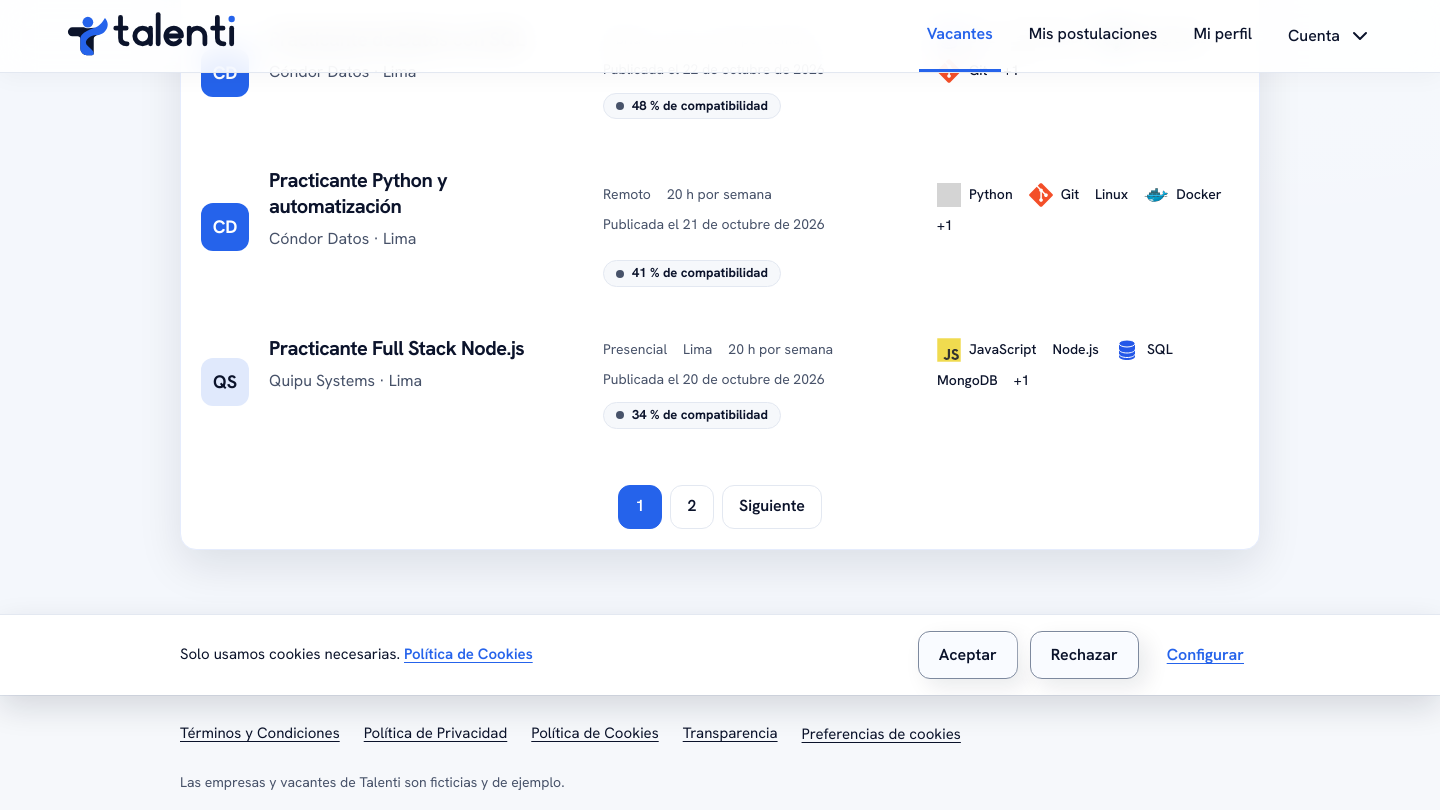
Cards of /oportunidades (007-23) › asks again only when the page of results changes
(page scrolled)
What coordinates should you click on to do the following:
click the link named "Página 2"
I would click on:
 (692, 507)
Its box is [670, 485, 714, 529].
(page scrolled)
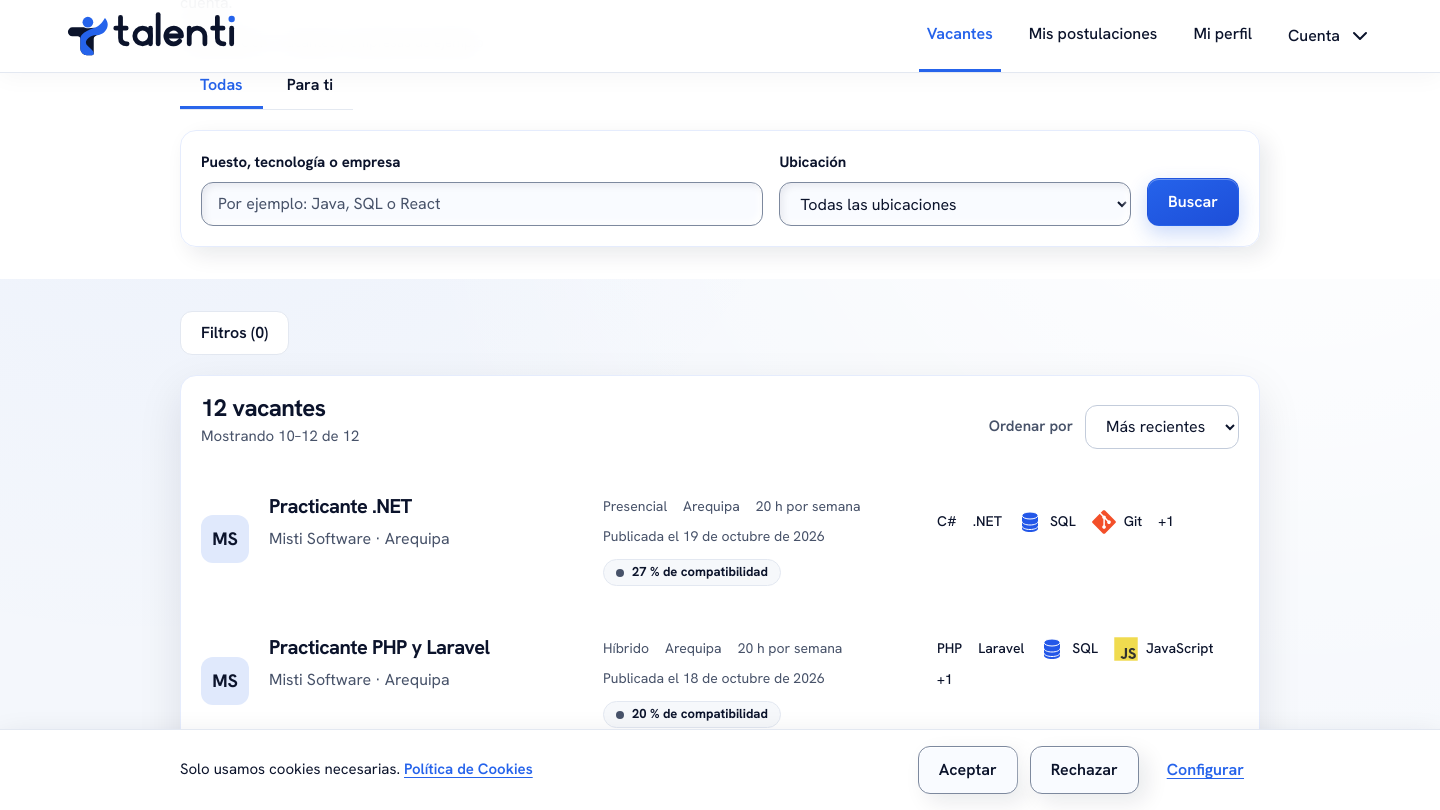
Check: the text "27 % de compatibilidad" is shown 3 times
